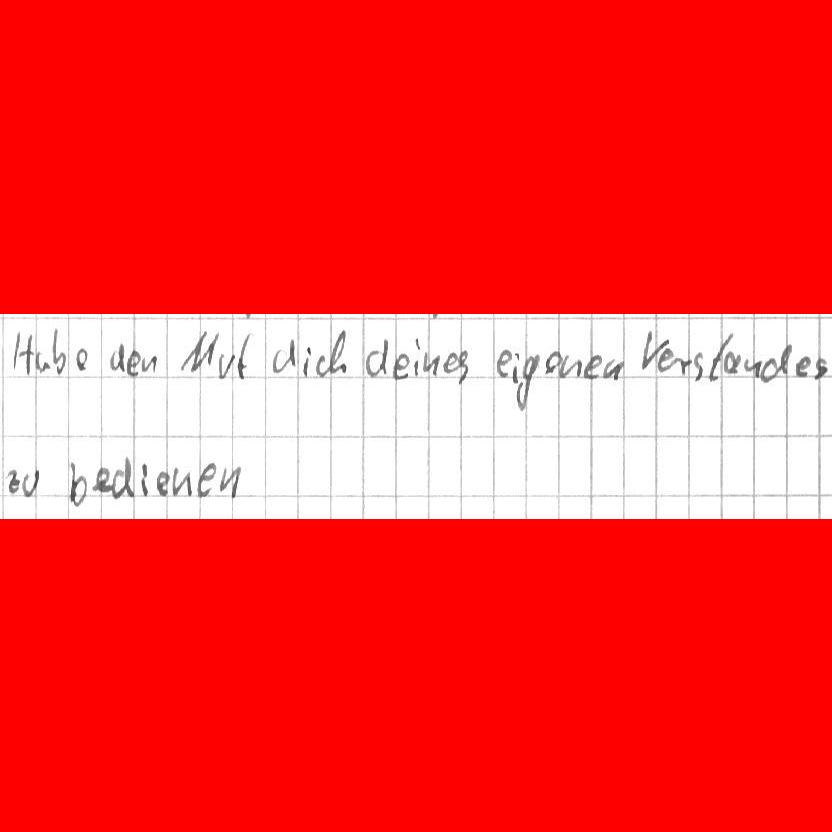Char: (179, 328, 219, 378), (516, 352, 540, 412), (638, 328, 668, 372), (759, 343, 790, 383), (364, 335, 389, 378), (66, 459, 88, 507), (12, 329, 34, 377), (112, 455, 134, 499), (706, 336, 727, 381), (328, 329, 347, 377), (271, 340, 295, 376), (217, 463, 240, 500), (51, 326, 67, 373), (236, 330, 251, 379), (197, 461, 215, 497), (495, 347, 515, 379), (171, 466, 191, 497), (216, 351, 237, 380), (562, 353, 584, 378), (93, 464, 111, 494), (455, 349, 470, 385), (543, 350, 562, 378), (109, 342, 126, 373), (138, 462, 152, 498), (444, 350, 461, 379), (392, 353, 411, 378), (672, 353, 692, 376), (22, 469, 39, 496), (412, 339, 424, 377), (584, 353, 602, 378), (604, 358, 624, 380), (141, 351, 159, 375), (656, 347, 673, 372), (723, 350, 741, 373), (742, 356, 761, 377), (127, 349, 141, 377), (73, 346, 88, 372), (36, 350, 51, 376), (795, 354, 811, 378), (426, 354, 442, 377), (7, 470, 21, 496), (510, 350, 521, 383), (313, 353, 328, 376), (693, 350, 704, 381), (302, 344, 312, 377), (815, 358, 830, 379), (156, 471, 168, 497)
